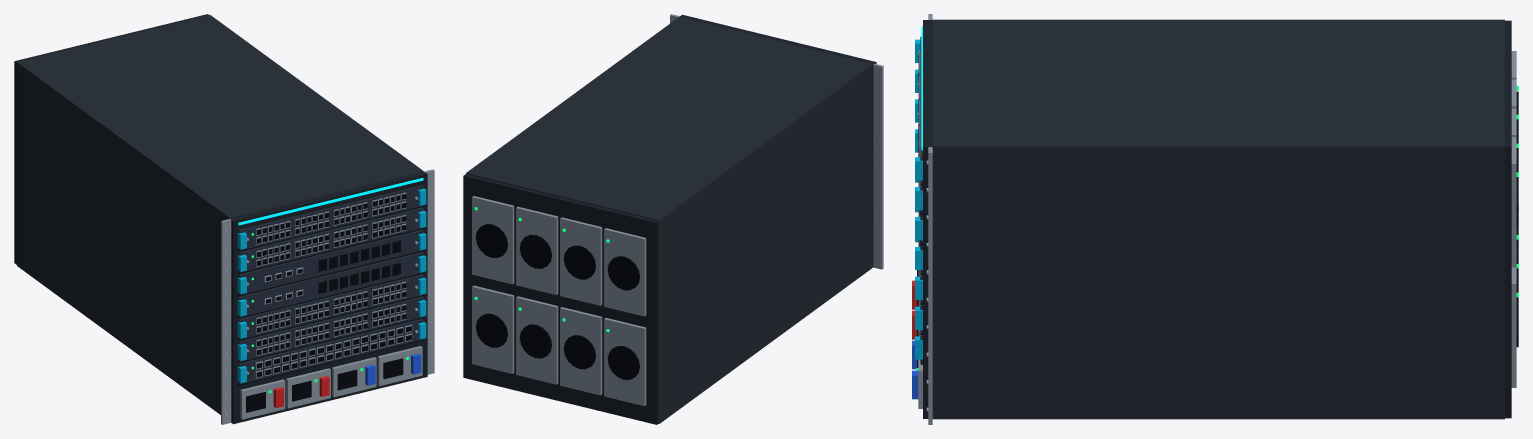
Rendered from cisco_catalyst_9407r_chassis_10u.glb.
The picture shows the model from 3 angles, left to right: view 1: azimuth 30°, elevation 25°; view 2: azimuth 150°, elevation 25°; view 3: azimuth 270°, elevation 25°; orthographic projection. The views are drawn at different scales.
Visible parts, largest first — view 1: BATCH_MAT_CHASSIS_BODY, BATCH_MAT_SLOT_CARD, BATCH_MAT_CAVITY_DARK, BATCH_MAT_FACEPLATE, BATCH_MAT_RACK_EAR, BATCH_MAT_PORT_SHIELD, BATCH_MAT_EJECTOR_LEVER, BATCH_MAT_BRAND_ACCENT, BATCH_MAT_SHELF_PSU_A, BATCH_MAT_SHELF_PSU_B; view 2: BATCH_MAT_CHASSIS_BODY, BATCH_MAT_RACK_EAR, BATCH_MAT_FACEPLATE, BATCH_MAT_CAVITY_DARK; view 3: BATCH_MAT_CHASSIS_BODY, BATCH_MAT_FACEPLATE, BATCH_MAT_RACK_EAR, BATCH_MAT_EJECTOR_LEVER, BATCH_MAT_CAVITY_DARK.
Part boxes in pixels (left/top/right/bottom): BATCH_MAT_CHASSIS_BODY: left=17, top=15, right=423, bottom=414; BATCH_MAT_SLOT_CARD: left=238, top=185, right=423, bottom=384; BATCH_MAT_CAVITY_DARK: left=237, top=194, right=424, bottom=412; BATCH_MAT_FACEPLATE: left=14, top=14, right=427, bottom=424; BATCH_MAT_RACK_EAR: left=221, top=169, right=434, bottom=424; BATCH_MAT_PORT_SHIELD: left=224, top=178, right=433, bottom=416; BATCH_MAT_EJECTOR_LEVER: left=237, top=188, right=426, bottom=382; BATCH_MAT_BRAND_ACCENT: left=238, top=178, right=423, bottom=225; BATCH_MAT_SHELF_PSU_A: left=273, top=376, right=329, bottom=408; BATCH_MAT_SHELF_PSU_B: left=365, top=353, right=421, bottom=385; BATCH_MAT_CHASSIS_BODY: left=466, top=17, right=872, bottom=423; BATCH_MAT_RACK_EAR: left=472, top=14, right=883, bottom=406; BATCH_MAT_FACEPLATE: left=463, top=14, right=876, bottom=424; BATCH_MAT_CAVITY_DARK: left=475, top=224, right=639, bottom=379; BATCH_MAT_CHASSIS_BODY: left=932, top=19, right=1504, bottom=419; BATCH_MAT_FACEPLATE: left=923, top=20, right=1511, bottom=418; BATCH_MAT_RACK_EAR: left=918, top=14, right=1516, bottom=424; BATCH_MAT_EJECTOR_LEVER: left=915, top=39, right=922, bottom=359; BATCH_MAT_CAVITY_DARK: left=917, top=52, right=1518, bottom=367.
Bounding box in the file's own units: 0.4826 × 0.4425 × 0.8905.
